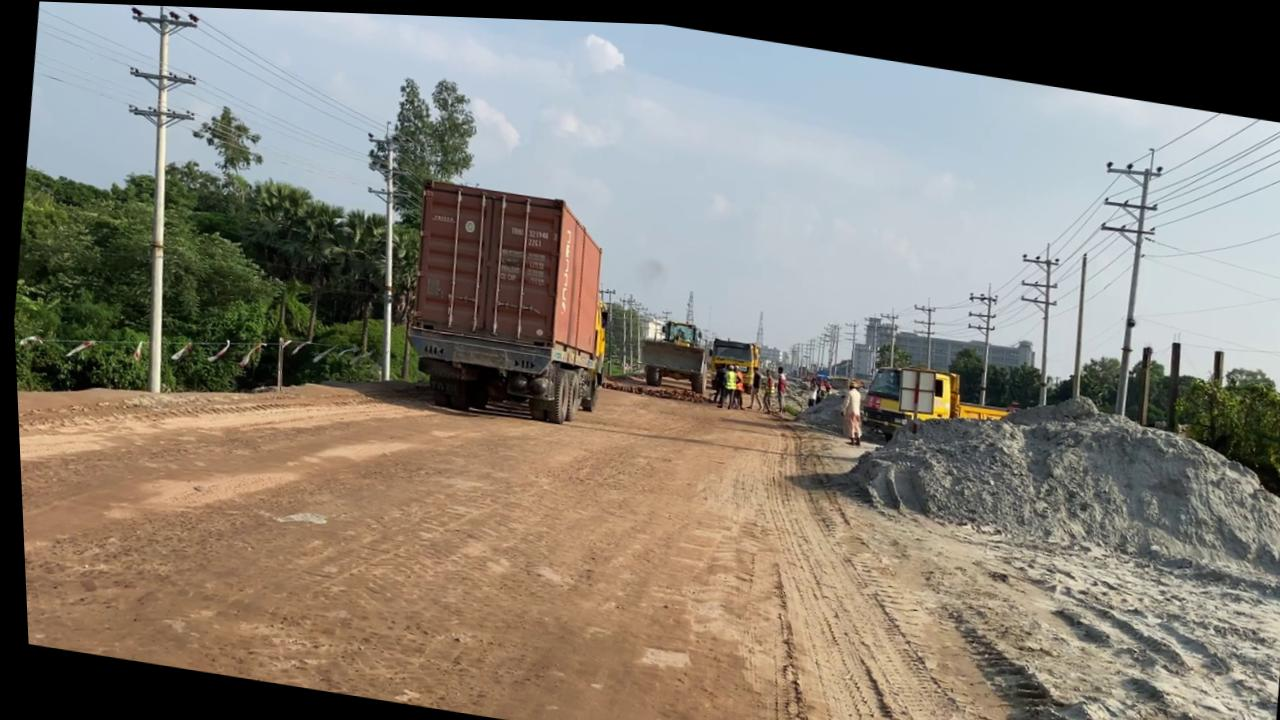Garbage: (825, 387, 1280, 625)
Light-pole: (83, 2, 219, 396)
Obstacle: (388, 171, 622, 428)
Pole: (1073, 132, 1174, 411), (358, 136, 416, 380)
Tree: (851, 348, 1014, 451), (629, 278, 766, 399), (631, 309, 708, 390), (569, 291, 612, 409), (701, 330, 760, 390)
